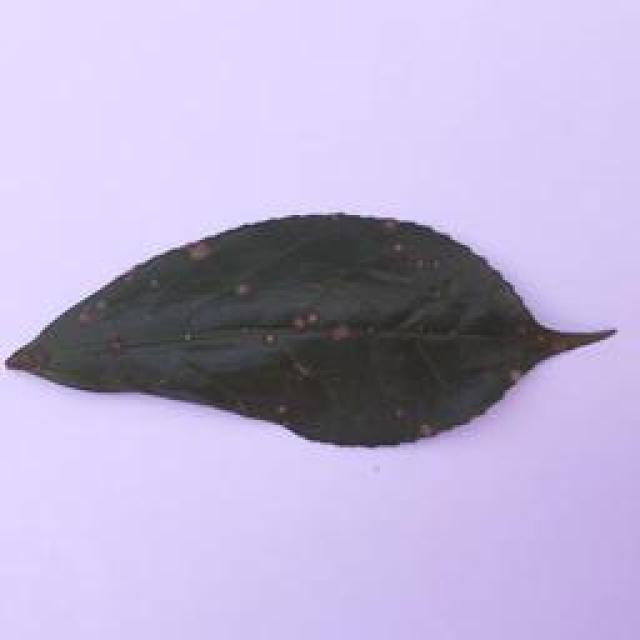Algal Leaf Spot: (6, 198, 632, 458)
